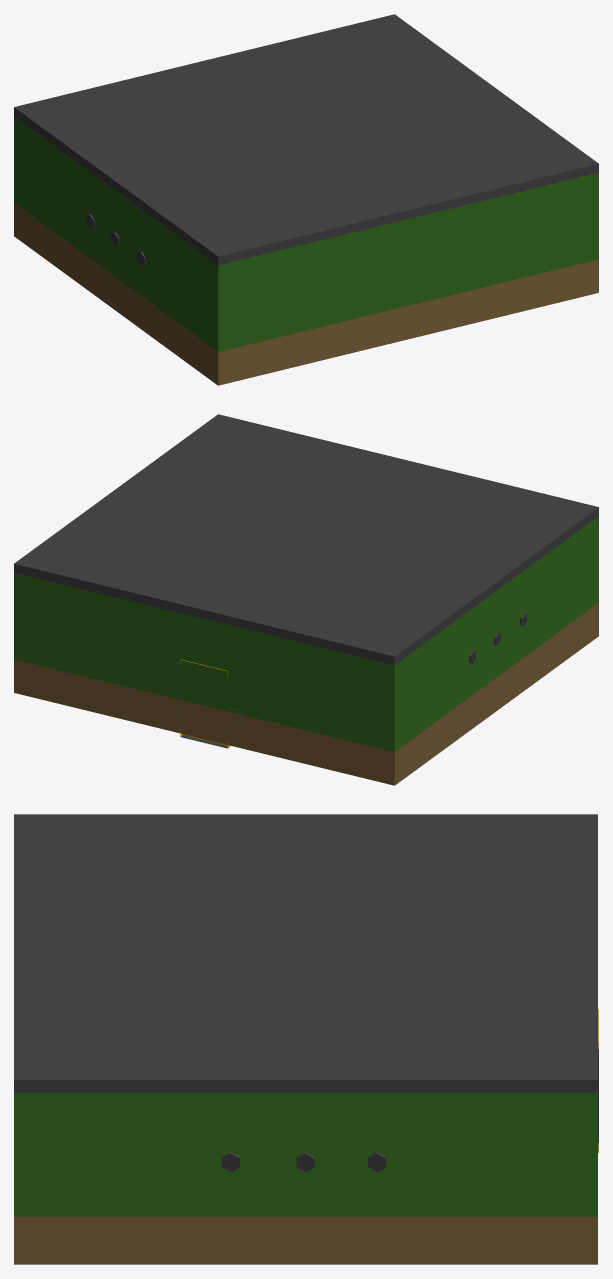
The model's file is test_room.fbx.
The picture shows the model from 3 angles, top to bottom: view 1: azimuth 30°, elevation 25°; view 2: azimuth 150°, elevation 25°; view 3: azimuth 270°, elevation 25°; orthographic projection. The views are drawn at different scales.
Visible parts, largest first — view 1: roof, room; view 2: roof, room; view 3: roof, room, containers.
Part boxes in pixels (bbox=[...]): roof: bbox=[14, 14, 598, 265]; room: bbox=[14, 116, 598, 385]; roof: bbox=[14, 414, 598, 665]; room: bbox=[14, 516, 598, 785]; roof: bbox=[14, 814, 597, 1092]; room: bbox=[14, 1009, 598, 1264]; containers: bbox=[221, 1152, 386, 1171].
Size of the model in its own units: 1116 by 366 by 1025.
